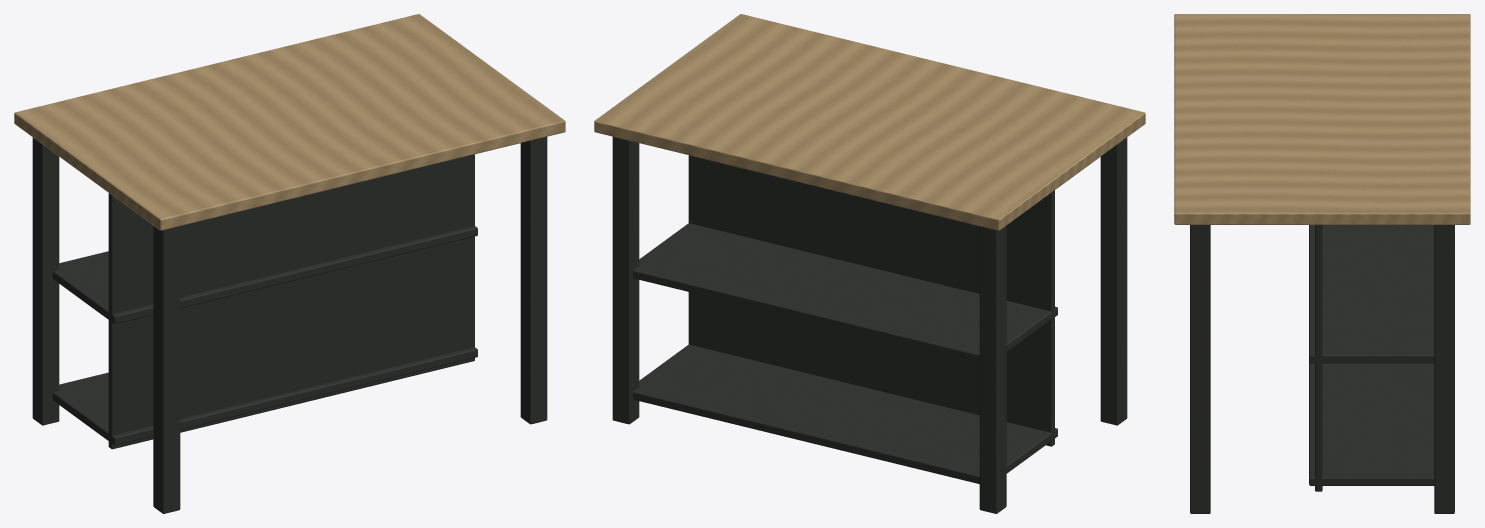
Rendered from vadholma.glb.
The picture shows the model from 3 angles, left to right: view 1: azimuth 30°, elevation 25°; view 2: azimuth 150°, elevation 25°; view 3: azimuth 270°, elevation 25°; orthographic projection.
Parts seen in each view (by area): view 1: VADHOLMA Kitchen island; view 2: VADHOLMA Kitchen island; view 3: VADHOLMA Kitchen island.
Boxes of the visible parts, <box> form: VADHOLMA Kitchen island: <box>14,14,565,513</box>; VADHOLMA Kitchen island: <box>594,14,1145,513</box>; VADHOLMA Kitchen island: <box>1174,14,1470,513</box>.
Size of the model in its own units: 1.26 by 0.9 by 0.79.
2 materials, 2 textured.
